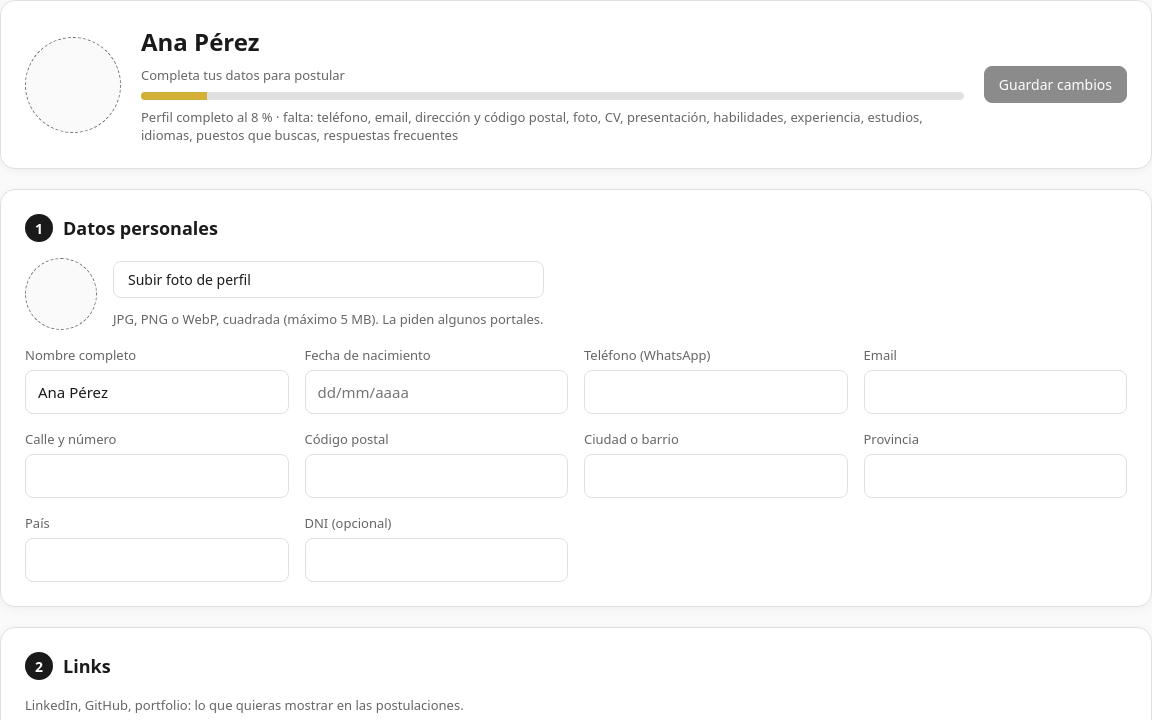
it: PerfilPage › Guardar cambios se habilita al editar y manda el perfil entero
Expected: the button "Guardar cambios" is disabled, left=984, top=66, right=1127, bottom=103
Step 1. Type "1094" into the field labelled "Código postal" → (436, 476), box left=304, top=454, right=568, bottom=498
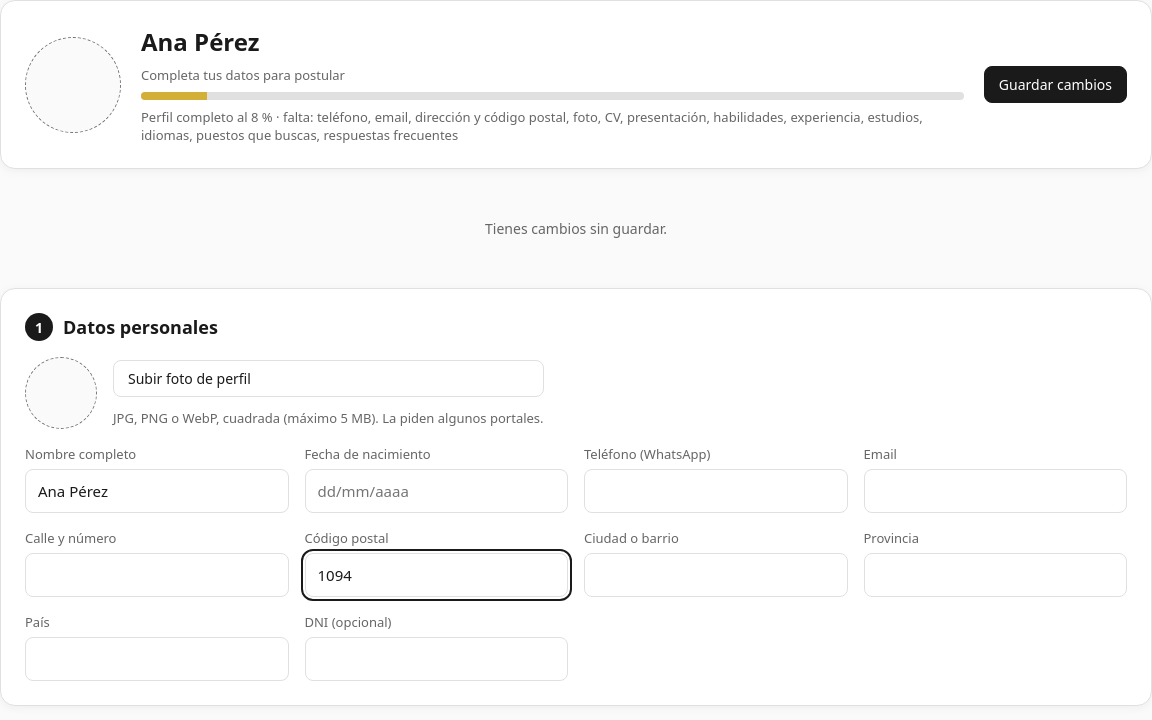
Now the text "Tienes cambios sin guardar." is shown, box left=485, top=219, right=667, bottom=238
Step 2. Click the button "Guardar cambios" → (1055, 84), box left=984, top=66, right=1127, bottom=103
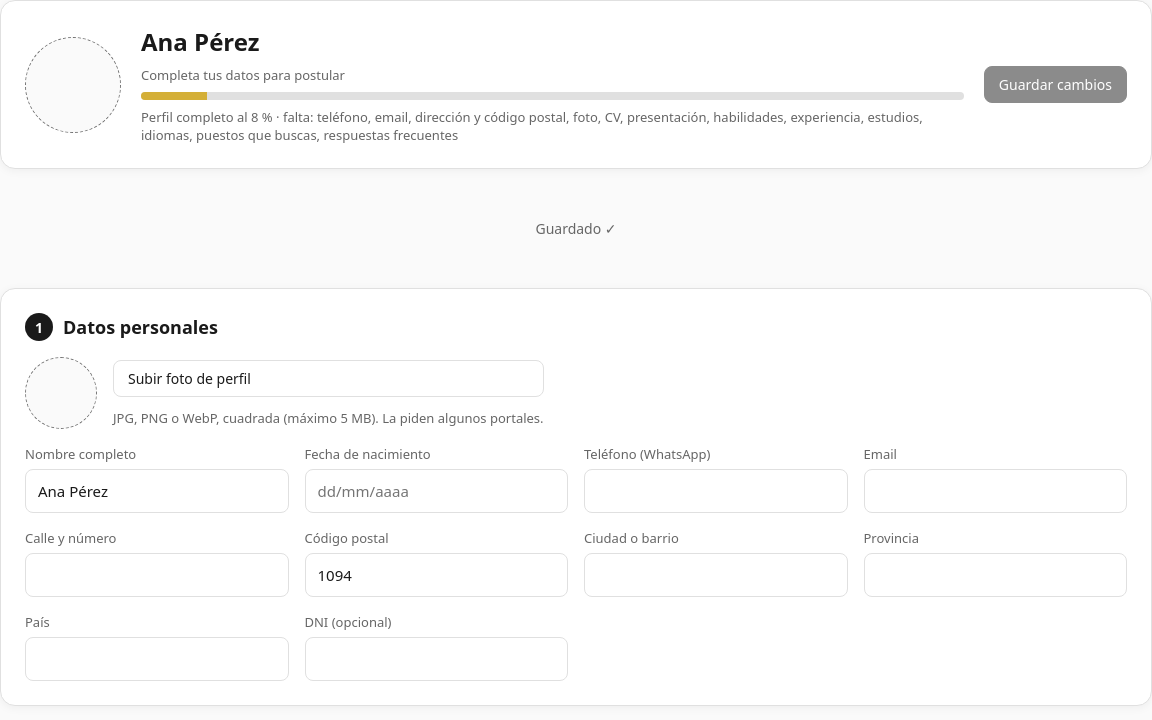
Now the text "Guardado ✓" is shown, box left=535, top=219, right=616, bottom=238
